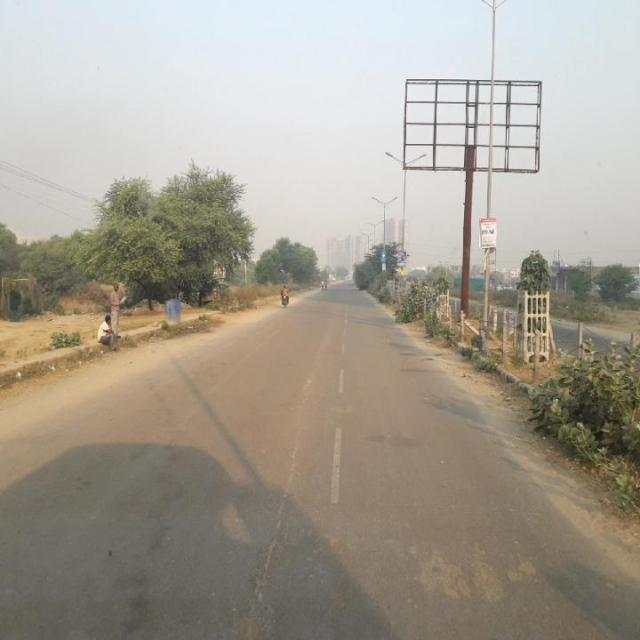D00: (246, 370, 316, 634)
